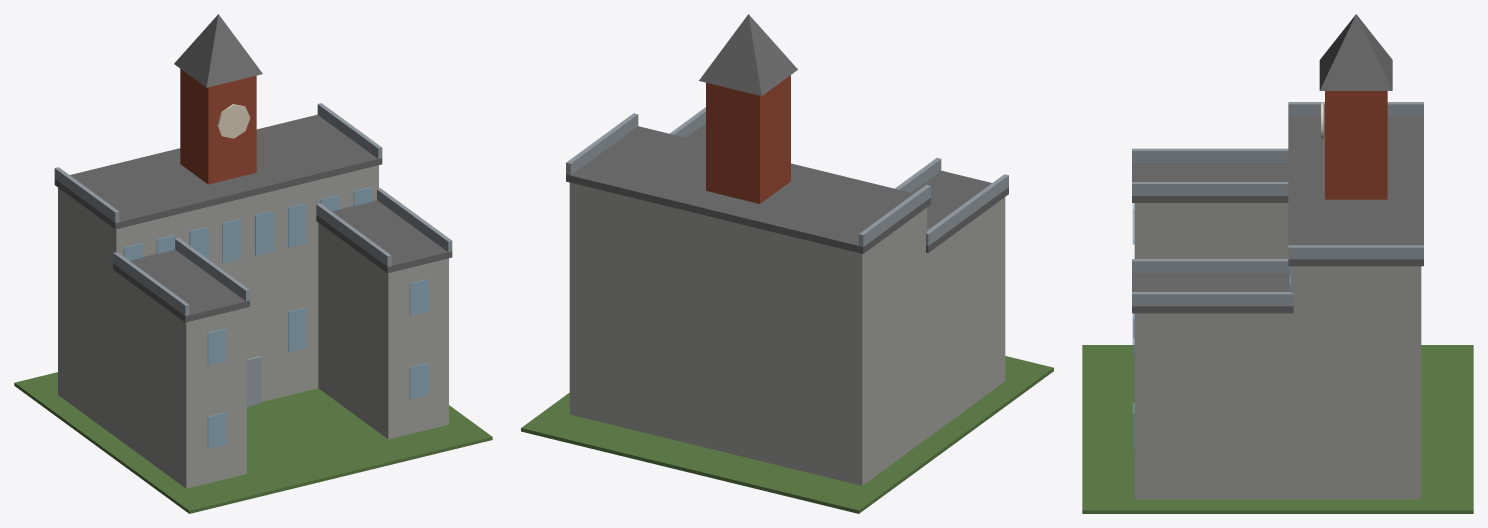
File: bld_special_university_a06_lod1.glb
The picture shows the model from 3 angles, left to right: view 1: azimuth 30°, elevation 25°; view 2: azimuth 150°, elevation 25°; view 3: azimuth 270°, elevation 25°; orthographic projection. The views are drawn at different scales.
Visible parts, largest first — view 1: body; view 2: body; view 3: body.
Boxes of the visible parts, bbox=[...] form: body: bbox=[14, 14, 492, 513]; body: bbox=[521, 14, 1053, 513]; body: bbox=[1082, 14, 1473, 513].
Size of the model in its own units: 15 by 17.65 by 15.
